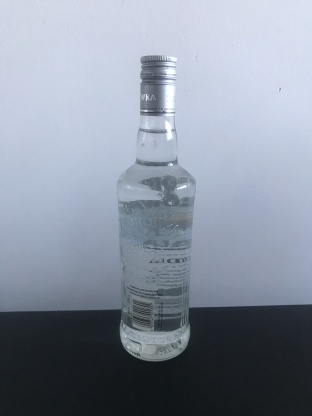nakretka: (138, 52, 178, 118)
